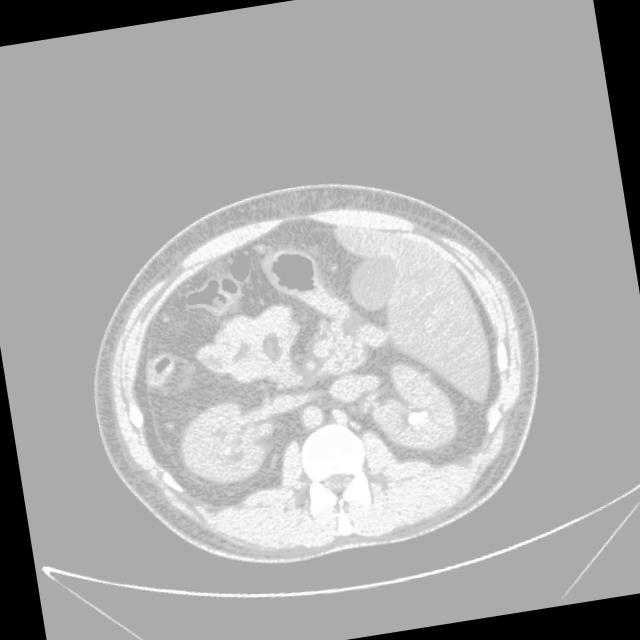STONE: (106, 205, 354, 415)
